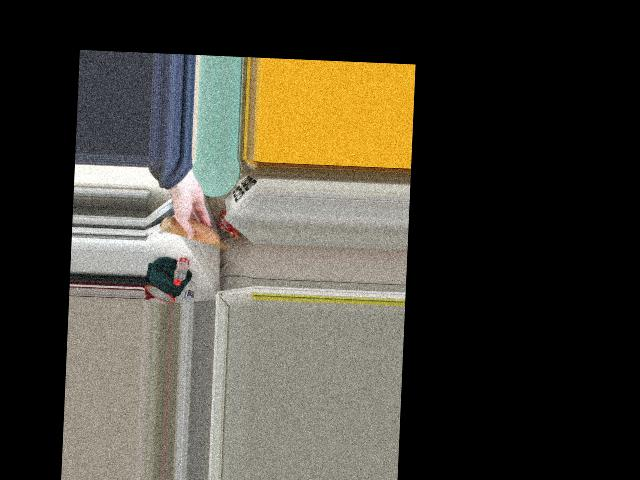sweet_potato: (163, 213, 228, 252)
